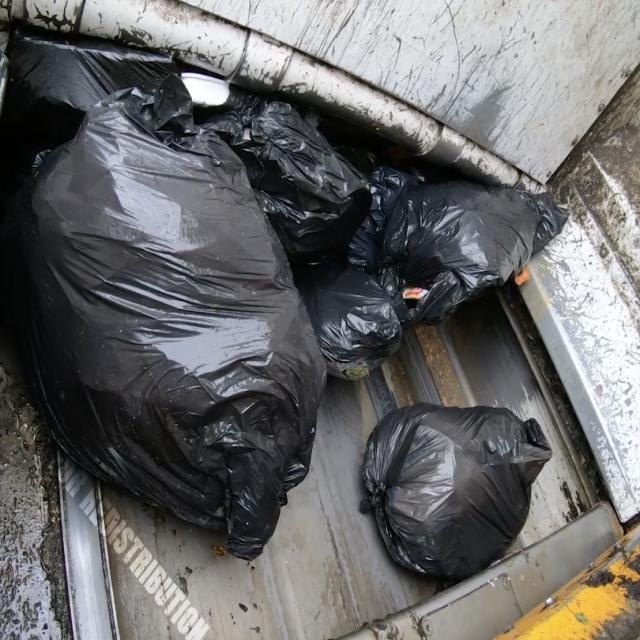bag: (12, 11, 358, 560), (247, 101, 581, 351), (354, 388, 561, 596)
